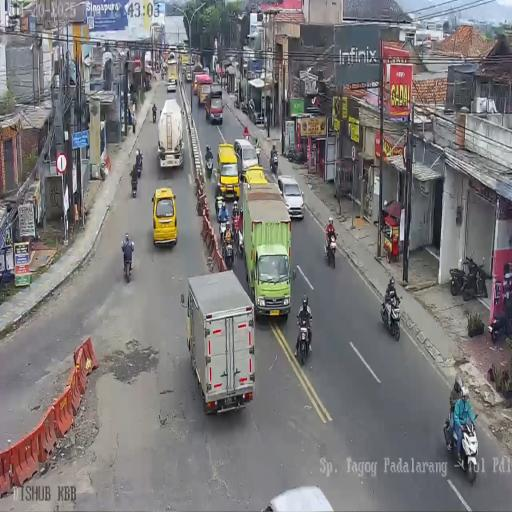3: (185, 270, 258, 415), (242, 174, 291, 314), (158, 98, 184, 170), (204, 84, 223, 126), (166, 50, 178, 84), (180, 55, 190, 76)
car: (152, 186, 177, 246), (216, 142, 239, 200), (276, 174, 303, 219)
truck: (444, 404, 478, 482), (461, 254, 490, 301), (380, 289, 401, 341), (295, 314, 312, 366), (488, 305, 510, 342), (121, 239, 134, 279), (222, 231, 234, 270), (450, 266, 465, 296), (325, 232, 337, 269), (286, 145, 304, 164), (218, 212, 228, 241), (205, 153, 213, 178), (270, 151, 278, 174), (136, 157, 143, 178), (131, 175, 137, 198), (241, 100, 249, 115), (152, 108, 157, 122), (161, 68, 165, 80)
